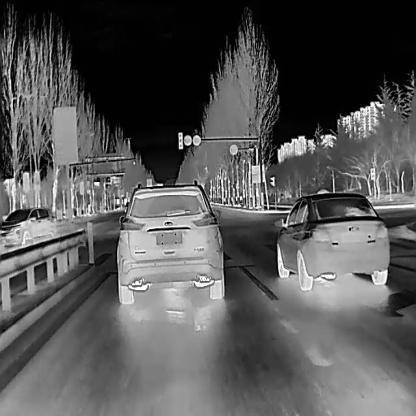car: (116, 178, 224, 304), (275, 190, 391, 291), (0, 206, 56, 255)
